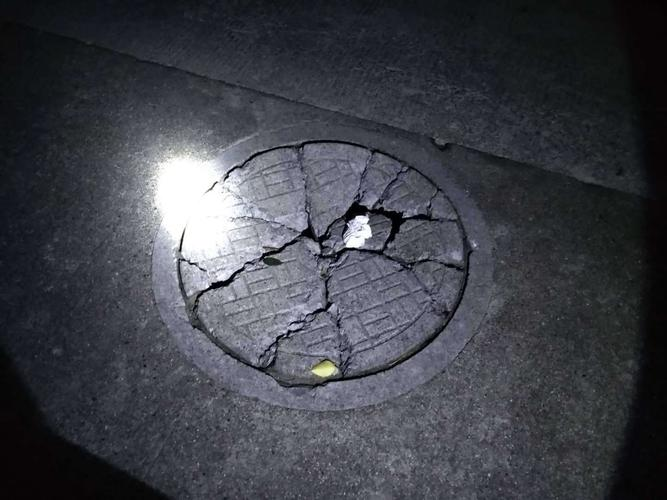broke: (139, 129, 504, 400)
